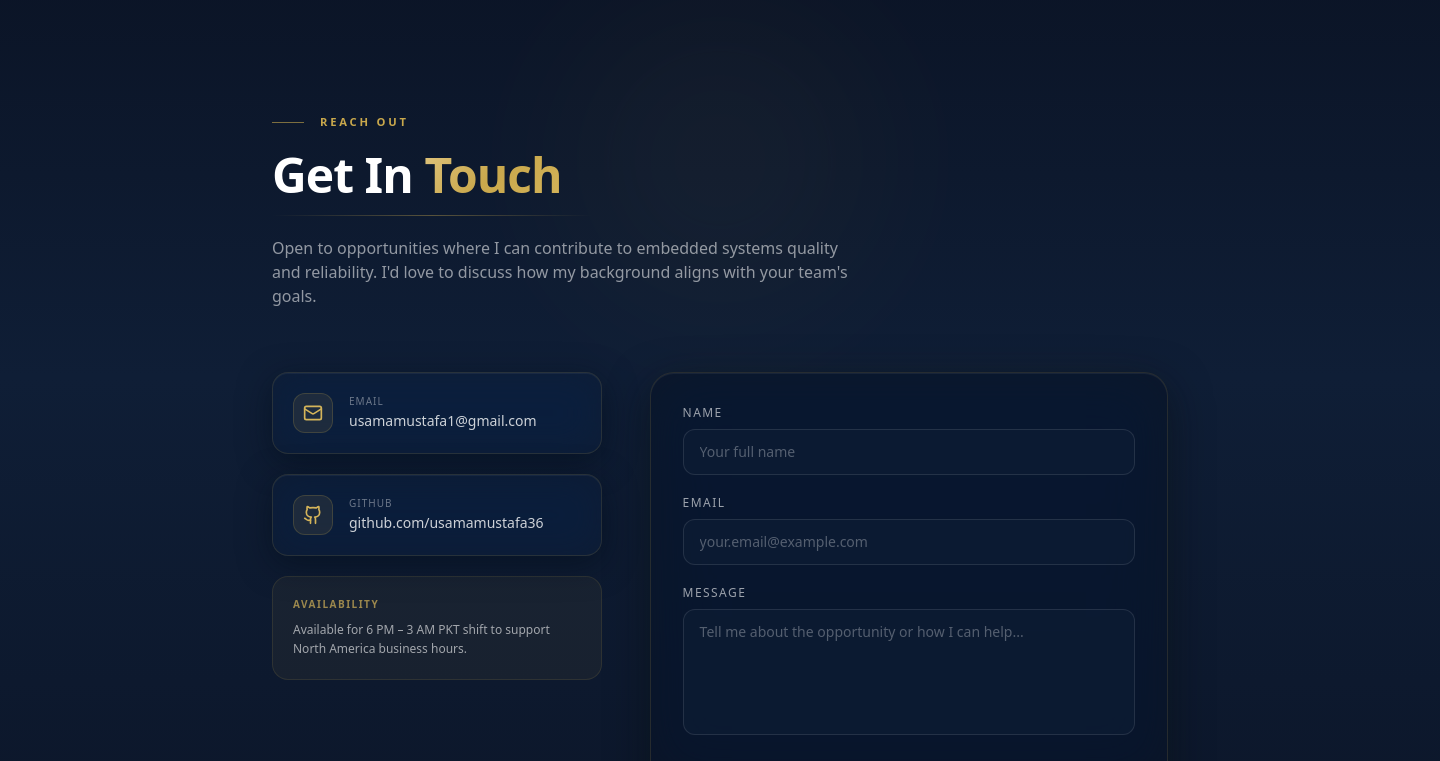
Test case: Contact Component › validates required fields
Type "John" into the field labelled "Name".
click(909, 452); type("John")  # box [683,429,1135,475]
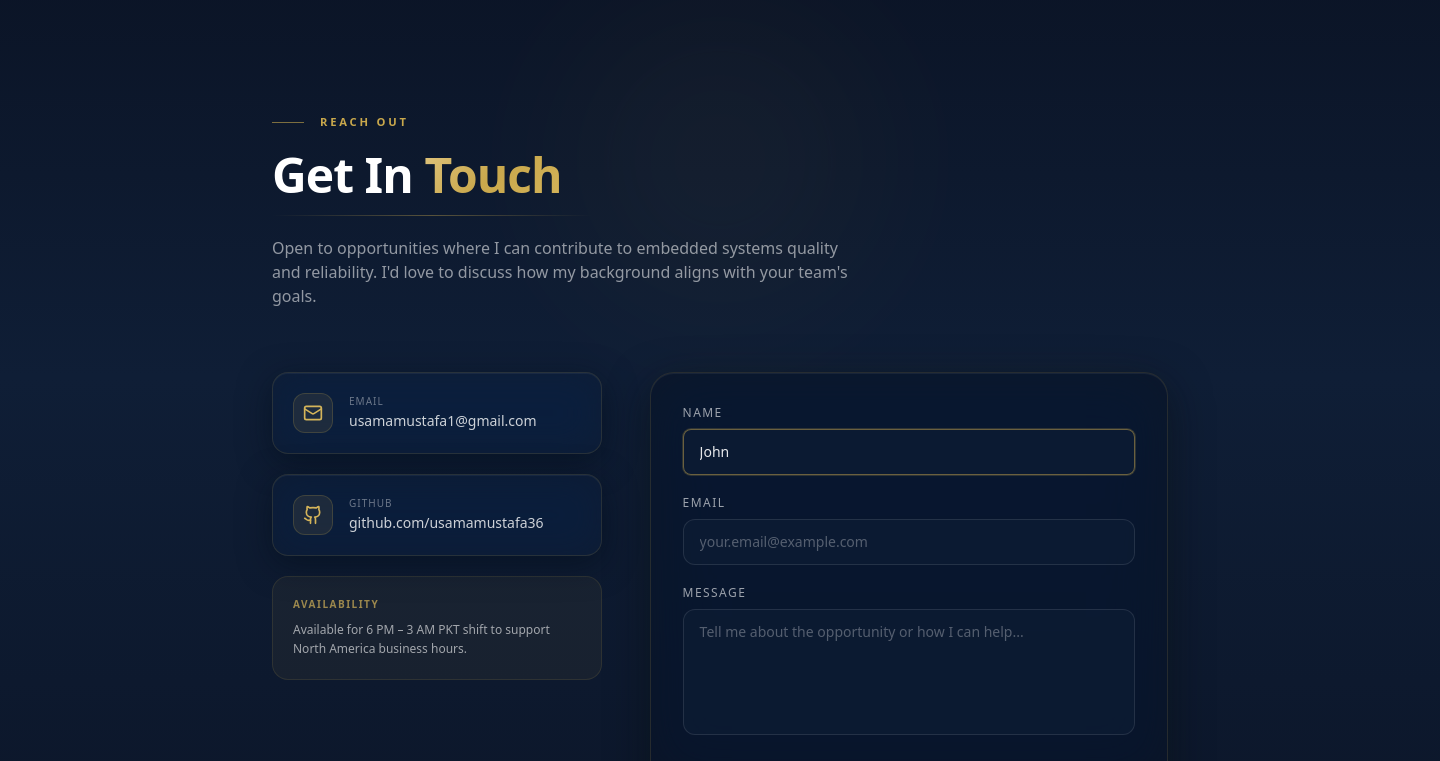
# Type and clear email to make it empty but touched
Type "test" into the field labelled "Email".
click(909, 542); type("test")  # box [683,519,1135,565]
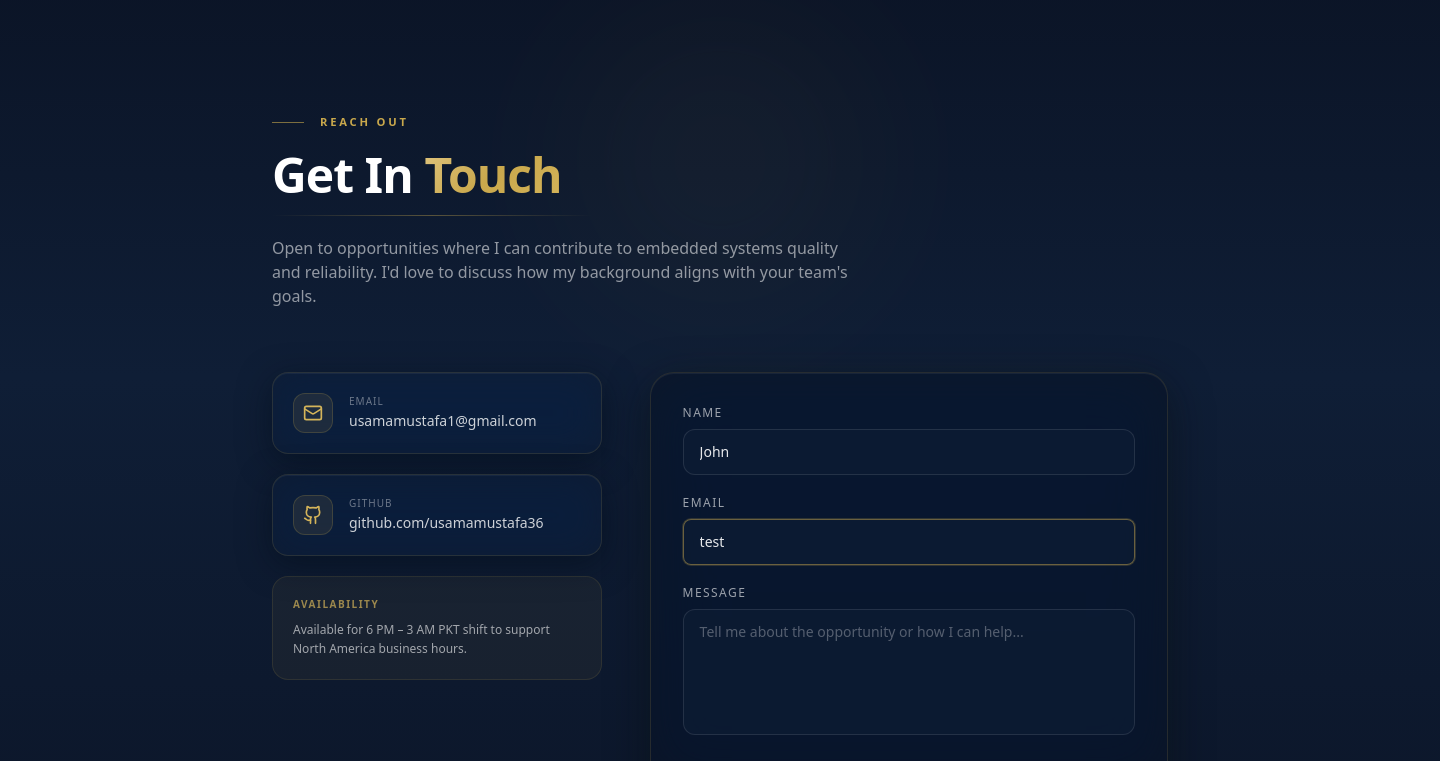
Replace the text in the field labelled "Email" with "test@example.com" at (909, 542), box [683,519,1135,565]
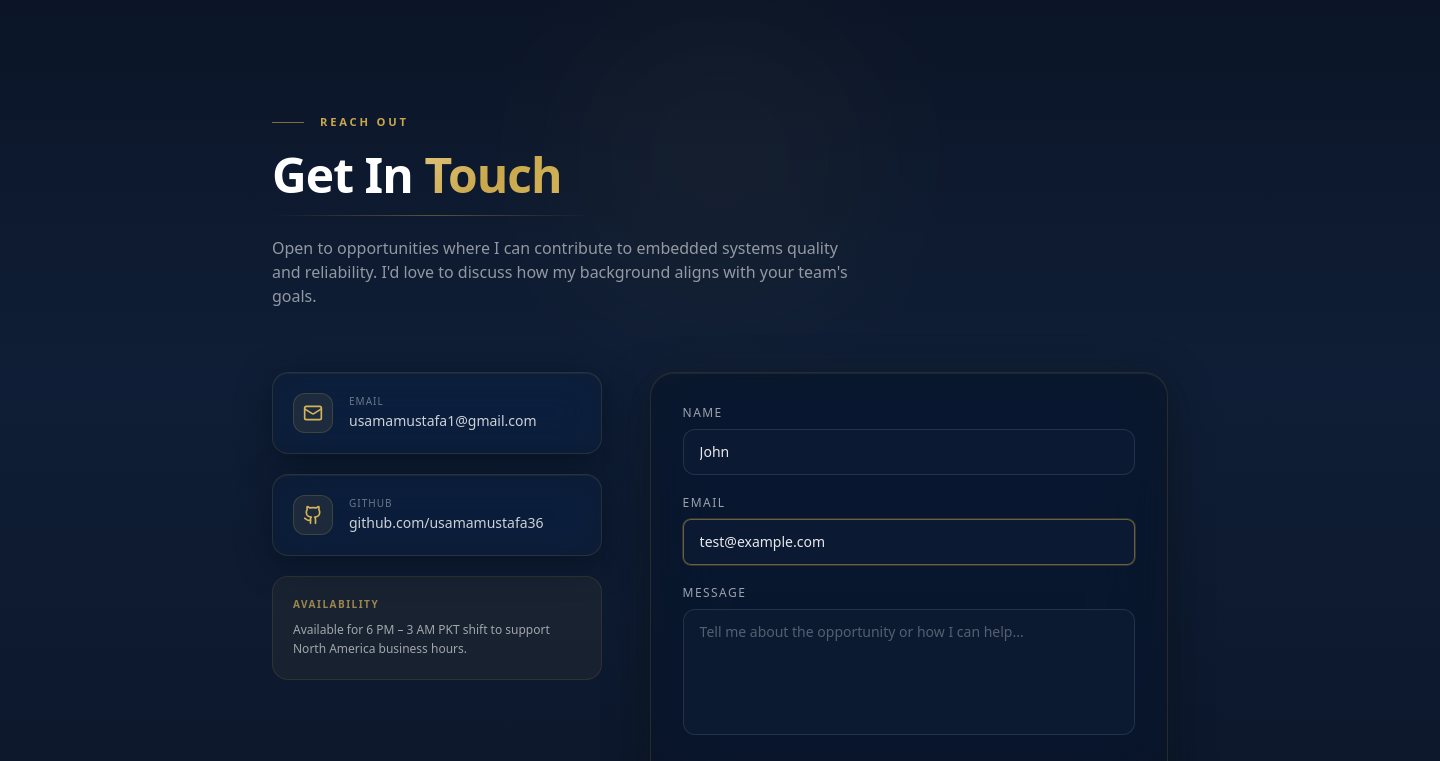
Type "short" into the text box labelled "Message".
click(909, 672); type("short")  # box [683,609,1135,735]
(page scrolled)
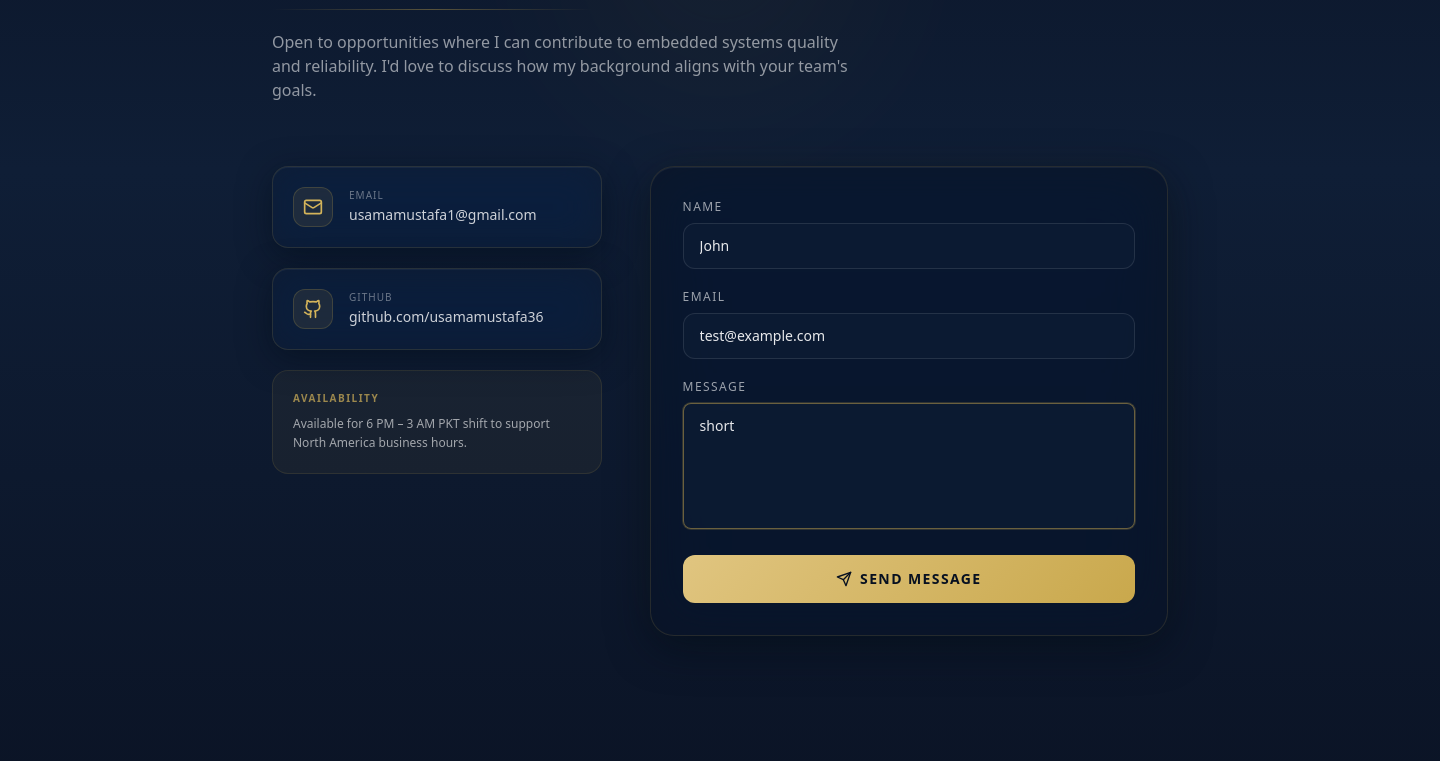
Click the button "SEND MESSAGE".
click(909, 579)  # box [683,555,1135,603]
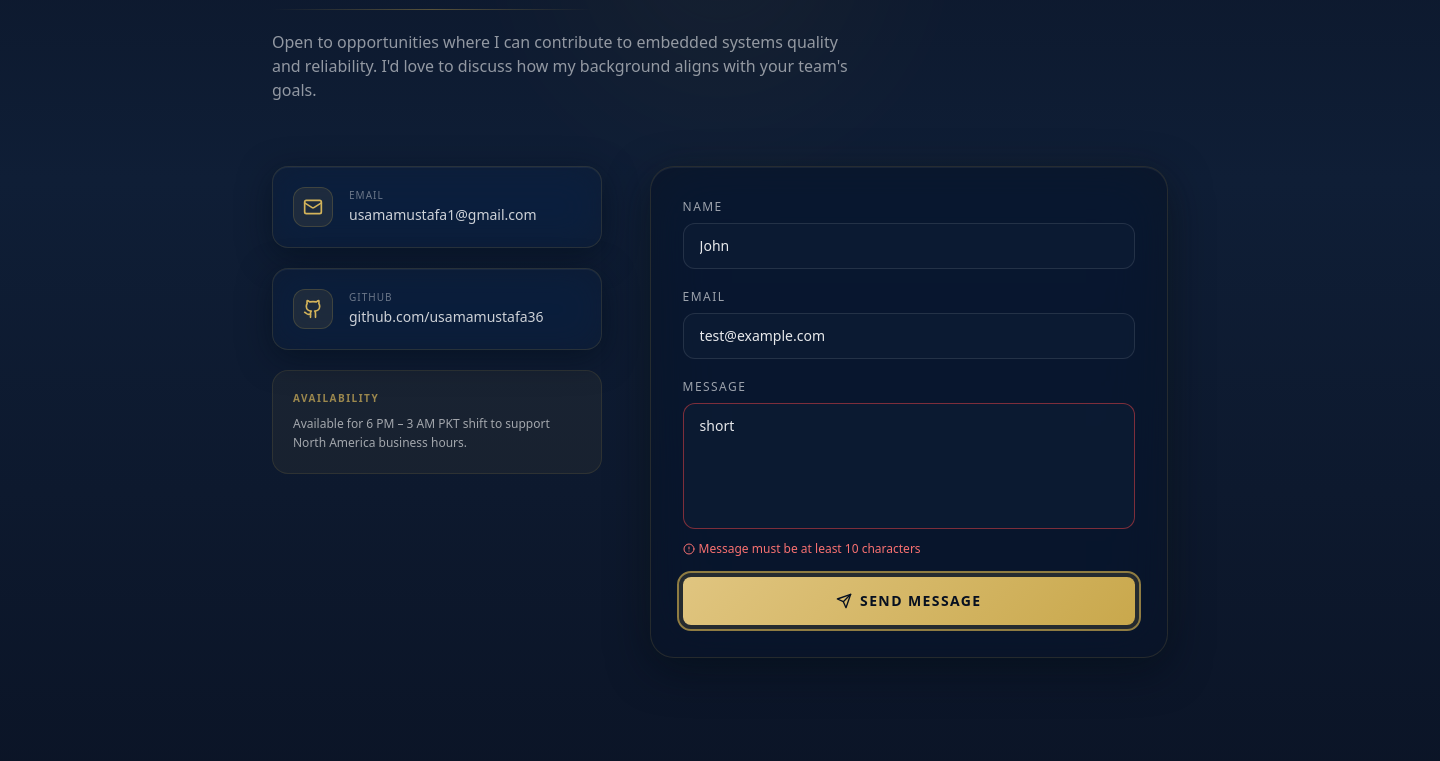
Now the text "Message must be at least 10 characters" is shown, box [683,540,921,557]
